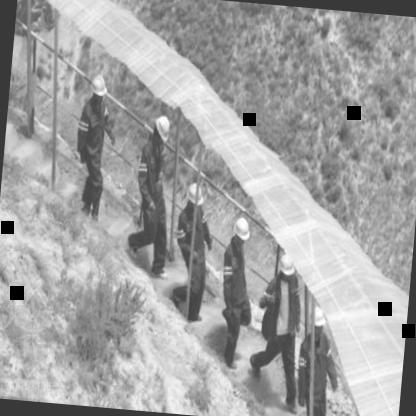helmet: (307, 303, 328, 340), (152, 113, 173, 146), (184, 180, 208, 208), (88, 75, 108, 105), (233, 216, 252, 247), (277, 254, 296, 283)
